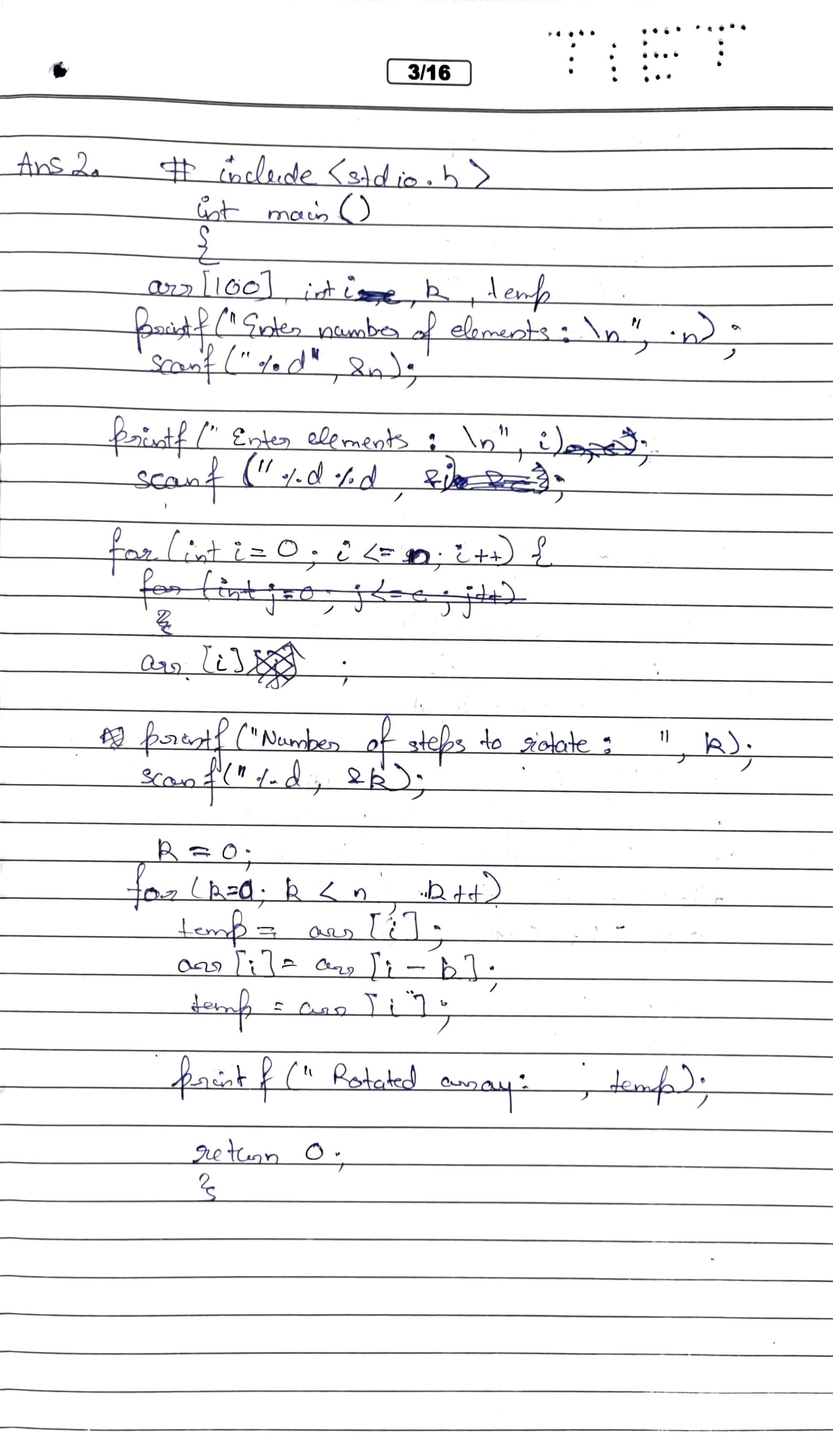cuttings: (136, 564, 534, 622), (451, 459, 551, 496), (563, 425, 639, 465), (249, 643, 305, 689), (358, 282, 404, 304), (94, 722, 129, 750), (153, 607, 177, 639)
